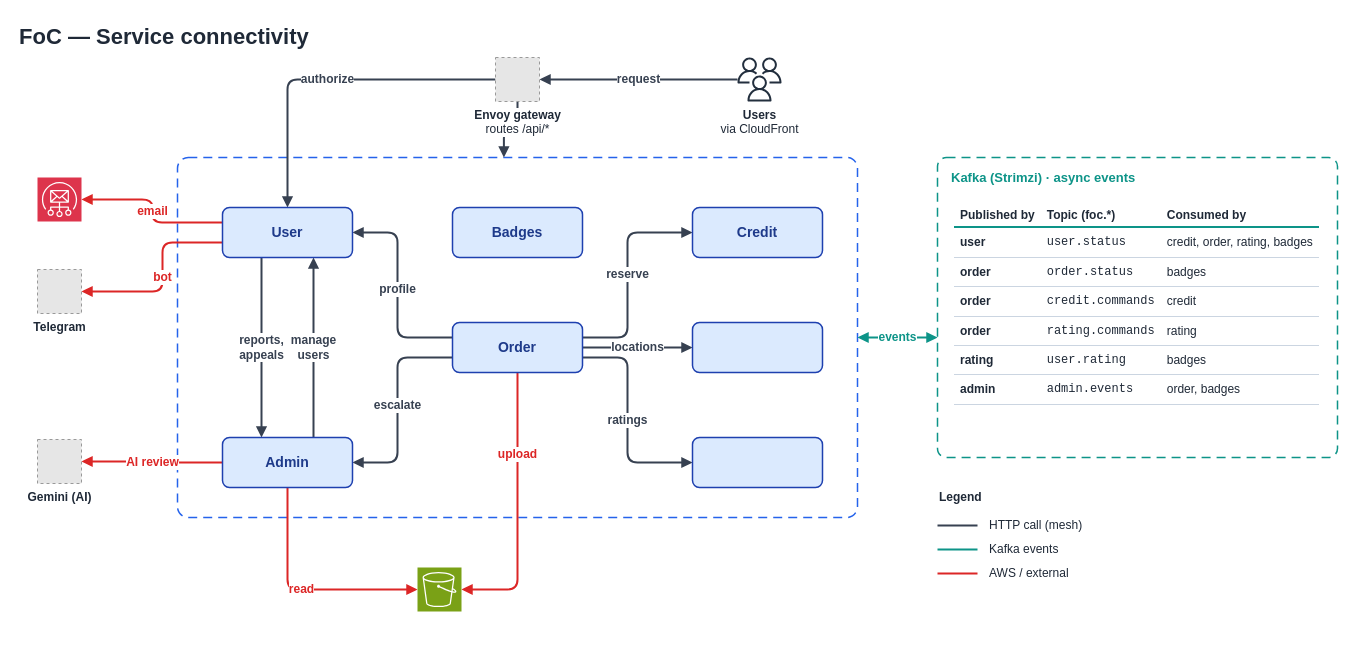
This 1355x649 diagram has some shape labels left out. Grey dashed boxes stand in for pictures. Each missing label, with the box of its shape:
Email (SES): (36, 176, 82, 222)
foc-dev · HTTP over Linkerd mTLS: (176, 156, 858, 518)
Photos (S3): (416, 566, 462, 612)
Rating: (691, 436, 823, 488)
Supplier: (691, 321, 823, 373)
